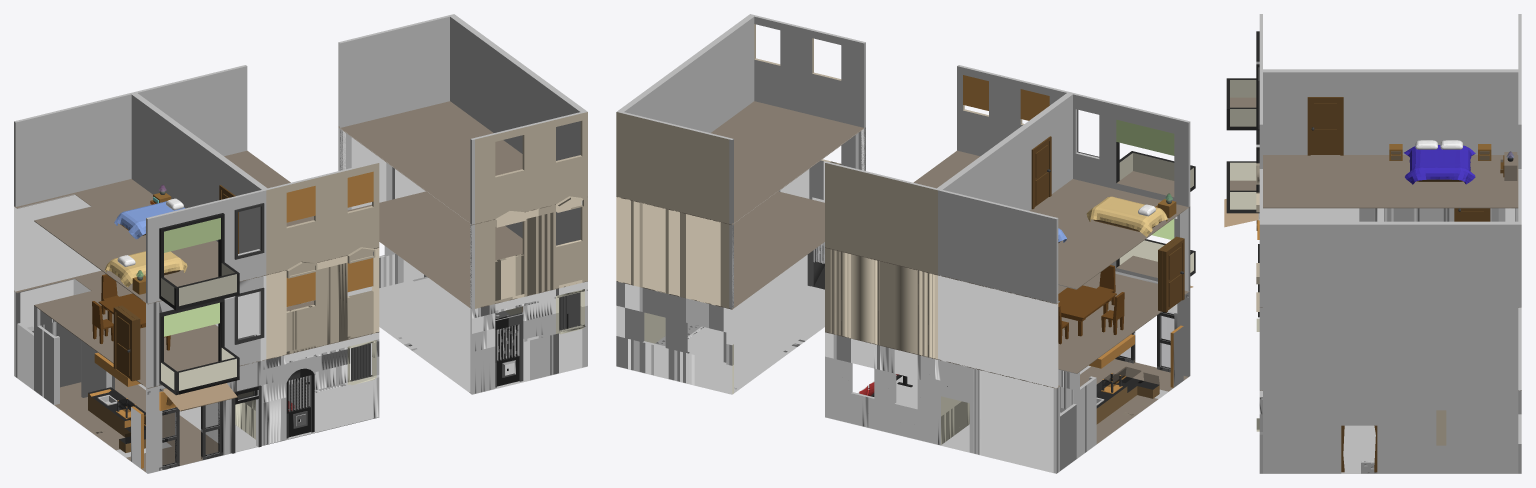
Rendered from Do ciacole forniture.fbx.
3 views of the same model, side by side, from view 1: azimuth 30°, elevation 25°; view 2: azimuth 150°, elevation 25°; view 3: azimuth 270°, elevation 25° (orthographic). The views are drawn at different scales.
Parts seen in each view (by area): view 1: Do_ciacole, Poligono, muri_e_struttura_1, Poligono_1, 2°piano_1, Poligono_2, 2°piano, Piano_1, piano1_do, muri_e_struttura_4, Banconte, da_sx (+4 smaller); view 2: Do_ciacole, Poligono, muri_e_struttura_1, Poligono_1, 2°piano_1, Poligono_2, 2°piano, Piano_1, piano1_do, Banconte, Lenziuolo_2, Tavolo (+3 smaller); view 3: muri_e_struttura_2, Poligono_2, Poligono, 2°piano, Do_ciacole, muri_e_struttura_1, da_dx_2, Lenziuolo, Poligono_1, da_dx_3, Comodino_2.
Boxes of the visible parts, <box> form: Do_ciacole: <box>14,195,379,473</box>; Poligono: <box>14,65,379,310</box>; muri_e_struttura_1: <box>338,127,587,394</box>; Poligono_1: <box>338,14,587,224</box>; 2°piano_1: <box>338,101,582,225</box>; Poligono_2: <box>450,15,585,160</box>; 2°piano: <box>14,150,378,304</box>; Piano_1: <box>347,191,587,307</box>; piano1_do: <box>14,270,378,388</box>; muri_e_struttura_4: <box>286,172,373,304</box>; Banconte: <box>88,352,145,452</box>; da_sx: <box>113,306,136,381</box>; Do_ciacole: <box>825,207,1195,473</box>; Poligono: <box>825,65,1195,303</box>; muri_e_struttura_1: <box>616,127,865,394</box>; Poligono_1: <box>616,14,865,224</box>; 2°piano_1: <box>617,101,863,224</box>; Poligono_2: <box>618,15,754,132</box>; 2°piano: <box>825,150,1190,304</box>; Piano_1: <box>616,191,824,309</box>; piano1_do: <box>825,272,1189,388</box>; Banconte: <box>1089,334,1159,424</box>; Lenziuolo_2: <box>1086,196,1167,236</box>; Tavolo: <box>1058,285,1116,336</box>; muri_e_struttura_2: <box>1263,307,1518,473</box>; Poligono_2: <box>1263,221,1518,307</box>; Poligono: <box>1226,14,1521,168</box>; 2°piano: <box>1263,155,1518,208</box>; Do_ciacole: <box>1224,130,1518,331</box>; muri_e_struttura_1: <box>1256,263,1521,473</box>; da_dx_2: <box>1307,97,1343,155</box>; Lenziuolo: <box>1404,145,1475,184</box>; Poligono_1: <box>1259,169,1521,307</box>; da_dx_3: <box>1454,208,1490,221</box>; Comodino_2: <box>1500,152,1517,180</box>.
Size of the model in its own units: 1545 by 850 by 907.
